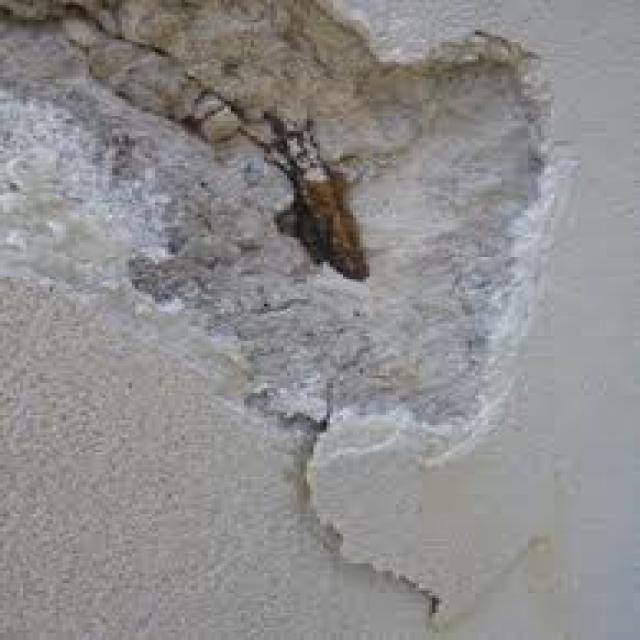Rebar: (1, 3, 562, 422)
